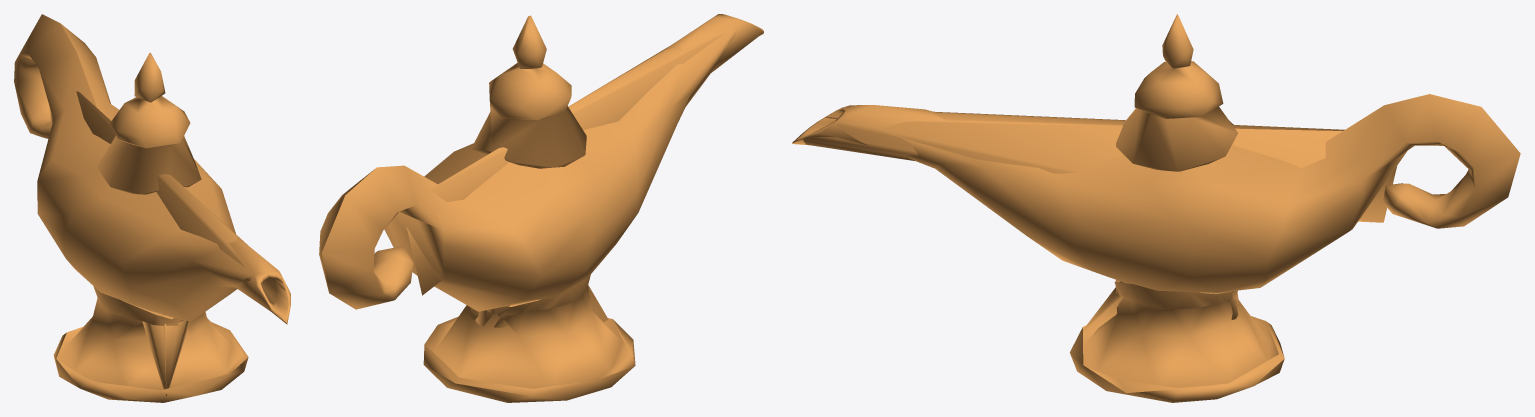
Rendered from Aladdin_lamp.glb.
3 views of the same model, side by side, from view 1: azimuth 30°, elevation 25°; view 2: azimuth 150°, elevation 25°; view 3: azimuth 270°, elevation 25° (orthographic). The views are drawn at different scales.
Parts seen in each view (by area): view 1: Circle (×2); view 2: Circle (×2); view 3: Circle (×2).
Boxes of the visible parts, left/top/right/bottom form: Circle (×2): left=14, top=14, right=290, bottom=402; Circle (×2): left=319, top=14, right=763, bottom=402; Circle (×2): left=792, top=14, right=1520, bottom=402.
Bounding box in the file's own units: 2.53 × 4.55 × 8.72.
